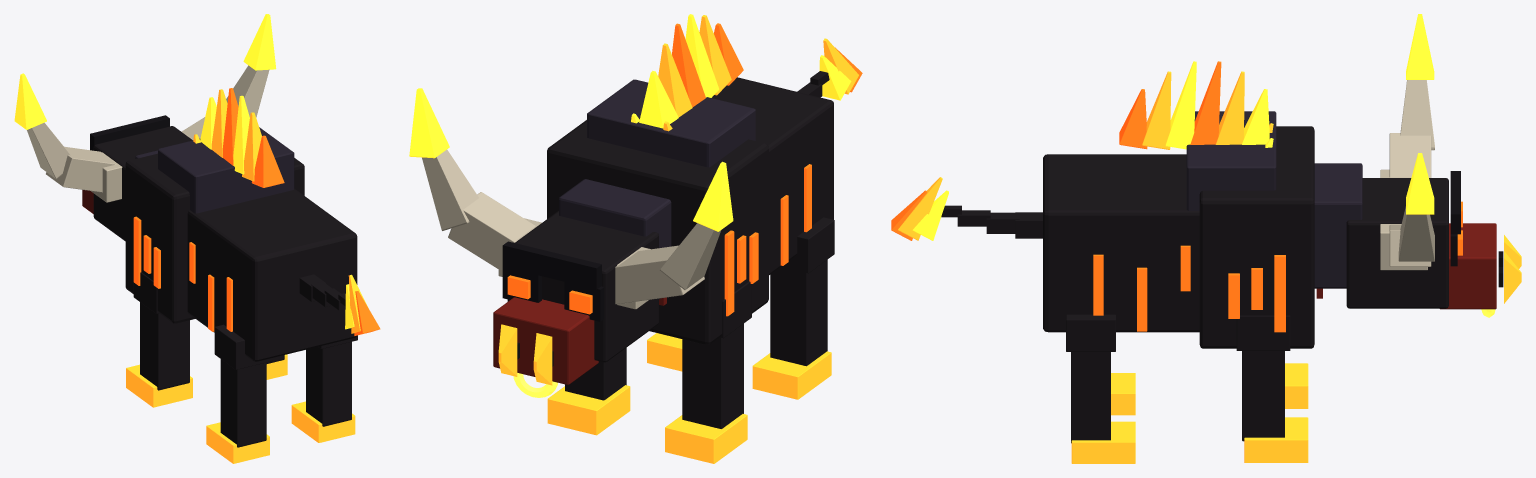
File: flaming-bull.glb
3 views of the same model, side by side, from view 1: azimuth 30°, elevation 25°; view 2: azimuth 150°, elevation 25°; view 3: azimuth 270°, elevation 25° (orthographic). The views are drawn at different scales.
Parts seen in each view (by area): view 1: body, head, leg.BR, leg.FR, leg.BL, tail, leg.FL; view 2: body, head, leg.BR, leg.FR, leg.FL, tail, leg.BL; view 3: body, head, leg.FL, leg.BL, tail, leg.FR, leg.BR.
Part boxes in pixels (x1=…): body: x1=125, y1=88, x2=357, y2=361; head: x1=14, y1=14, x2=276, y2=241; leg.BR: x1=206, y1=324, x2=272, y2=463; leg.FR: x1=126, y1=272, x2=192, y2=407; leg.BL: x1=291, y1=335, x2=357, y2=442; tail: x1=299, y1=274, x2=380, y2=335; leg.FL: x1=266, y1=354, x2=287, y2=379; body: x1=547, y1=14, x2=833, y2=344; head: x1=409, y1=88, x2=733, y2=397; leg.BR: x1=752, y1=217, x2=834, y2=399; leg.FR: x1=665, y1=281, x2=751, y2=463; leg.FL: x1=547, y1=348, x2=630, y2=435; tail: x1=797, y1=38, x2=862, y2=100; leg.BL: x1=647, y1=333, x2=682, y2=371; body: x1=1043, y1=61, x2=1362, y2=348; head: x1=1346, y1=14, x2=1521, y2=317; leg.FL: x1=1236, y1=315, x2=1308, y2=462; leg.BL: x1=1066, y1=314, x2=1135, y2=463; tail: x1=891, y1=177, x2=1042, y2=240; leg.FR: x1=1285, y1=363, x2=1308, y2=408; leg.BR: x1=1111, y1=373, x2=1135, y2=415.
Bounding box in the file's own units: 0.8309 × 1 × 1.55.
